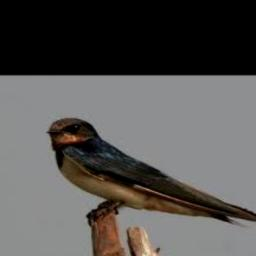Swallow: (47, 119, 256, 225)
